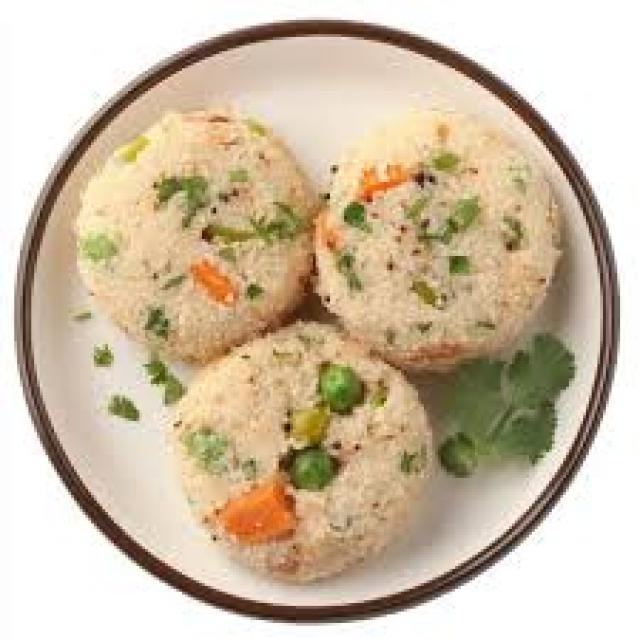MEDU VADA: (165, 319, 432, 575)
